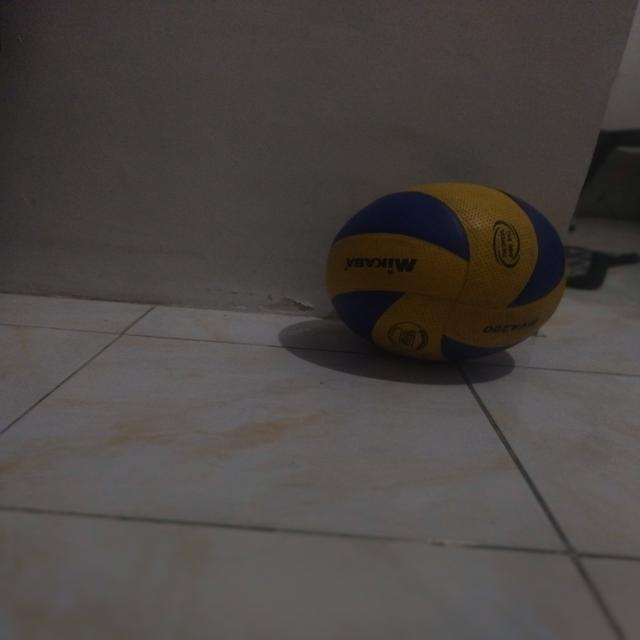Volleyball: (324, 178, 572, 370)
